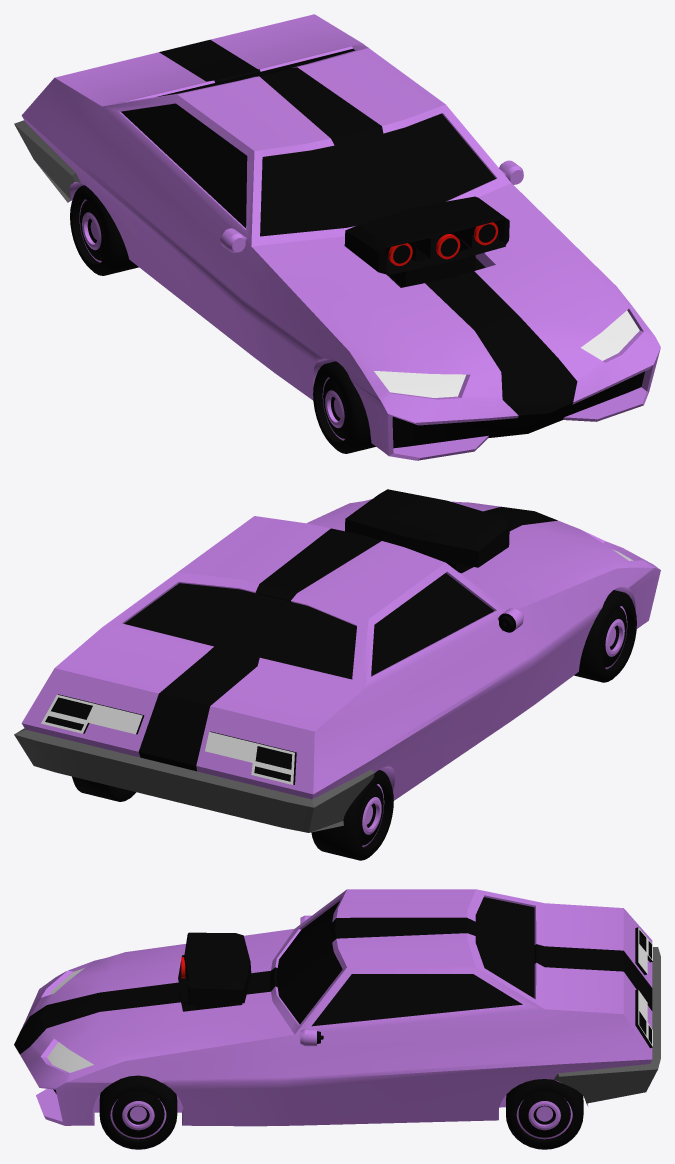
Rendered from sport vip.fbx.
3 renders of one model, top to bottom at view 1: azimuth 30°, elevation 25°; view 2: azimuth 150°, elevation 25°; view 3: azimuth 270°, elevation 25°, orthographic. The views are drawn at different scales.
Visible parts, largest first — view 1: Cube, Cylinder.002, Cylinder.003; view 2: Cube, Cylinder.003, Cylinder.002, Cylinder; view 3: Cube, Cylinder.001, Cylinder.
Boxes of the visible parts, x1,y1,x2,y2 form: Cube: [14, 14, 660, 460]; Cylinder.002: [313, 361, 375, 453]; Cylinder.003: [70, 185, 138, 275]; Cube: [14, 489, 660, 832]; Cylinder.003: [311, 770, 393, 860]; Cylinder.002: [574, 590, 636, 682]; Cylinder: [72, 776, 135, 801]; Cube: [14, 889, 660, 1126]; Cylinder.001: [99, 1075, 177, 1149]; Cylinder: [506, 1079, 583, 1149].
Size of the model in its own units: 506 by 321 by 1120.
